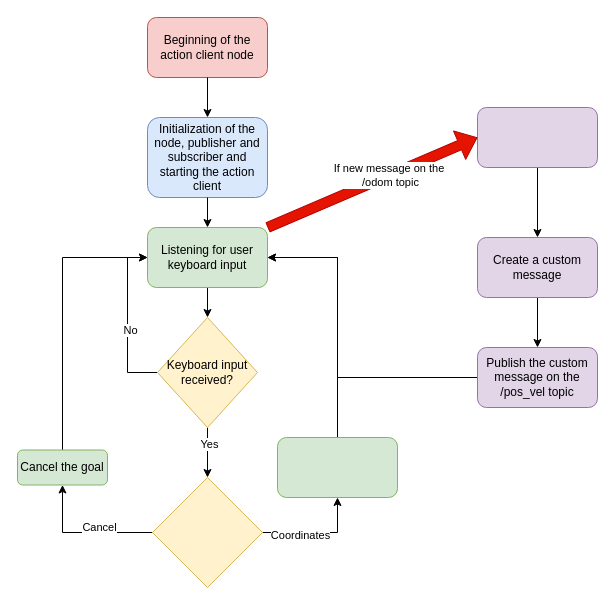
Some shapes in this 615 by 605 pixel diagram are drawn without their labels. The centre of each missing label's shape, as x and y in pixels:
"Coordinates or cancel command?" goes at (207,532).
"Create the goal and send it to the server" goes at (337,467).
"Get the velocity and position from the /odom topic" goes at (537,137).
